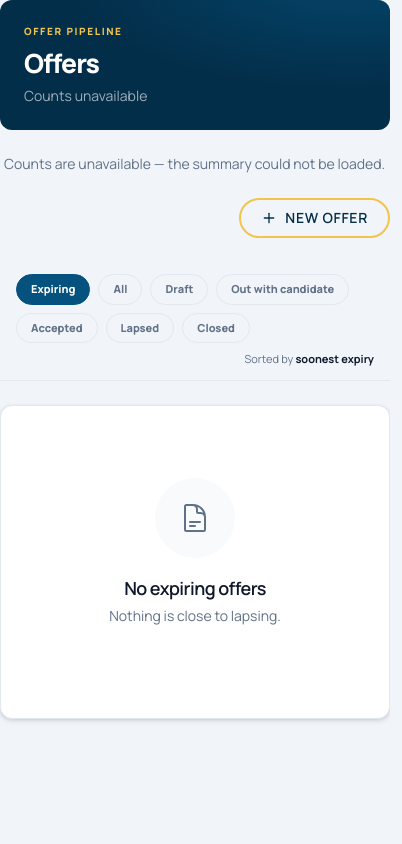
Test: Offer creation — validation › rejects a zero base salary rather than posting it
Click the button "New Offer".
click(315, 218)  # box [239,198,390,238]
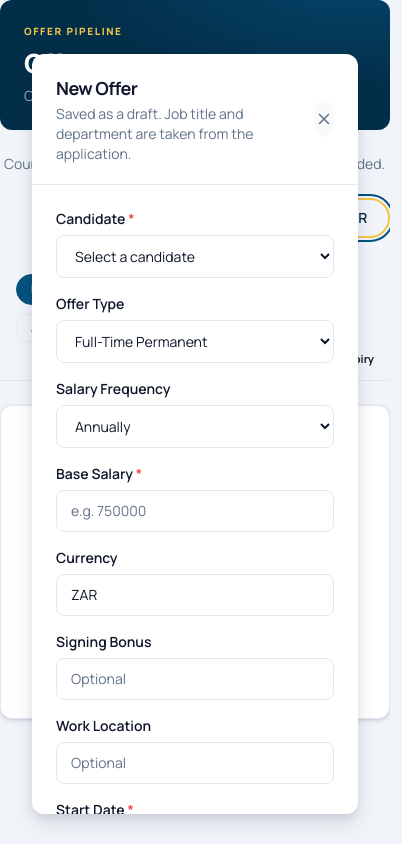
Select "Thandi Molefe -- Senior Developer" in the dropdown labelled "Candidate *" at (195, 257), box [56,235,334,278]
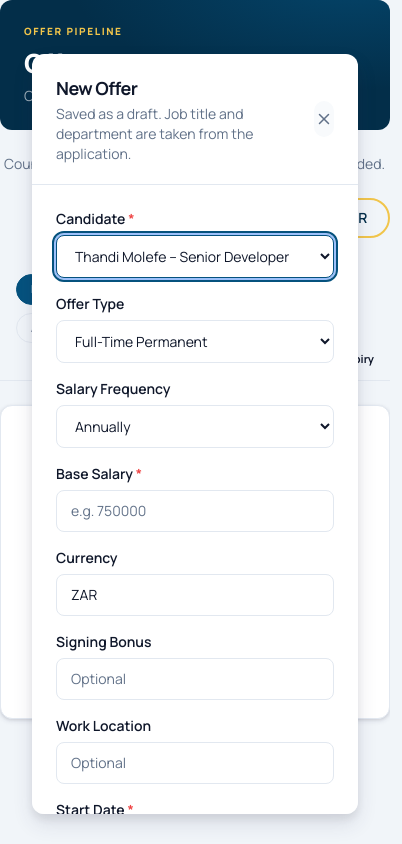
Type "0" into the number field labelled "Base Salary *".
click(195, 511); type("0")  # box [56,490,334,532]
(page scrolled)
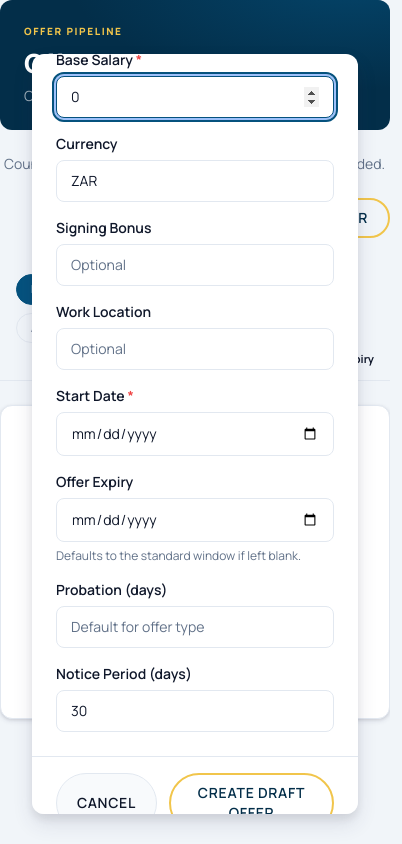
Type "2026-10-01" into the date field labelled "Start Date *".
click(195, 434); type("2026-10-01")  # box [56,412,334,456]
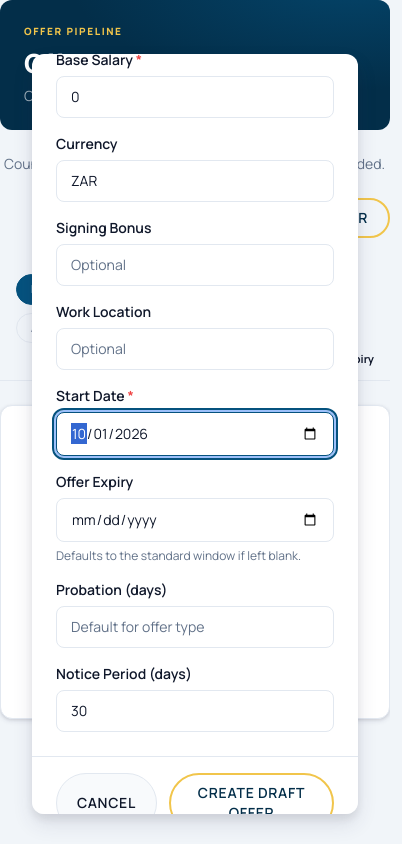
Click the button "Create Draft Offer".
click(252, 803)  # box [169,773,334,833]
(page scrolled)
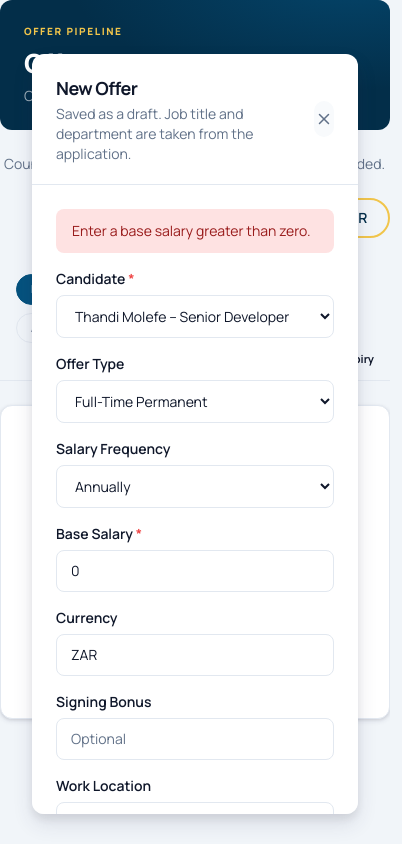
Result: the text "Enter a base salary greater than zero." is shown at [56,209,334,253]
